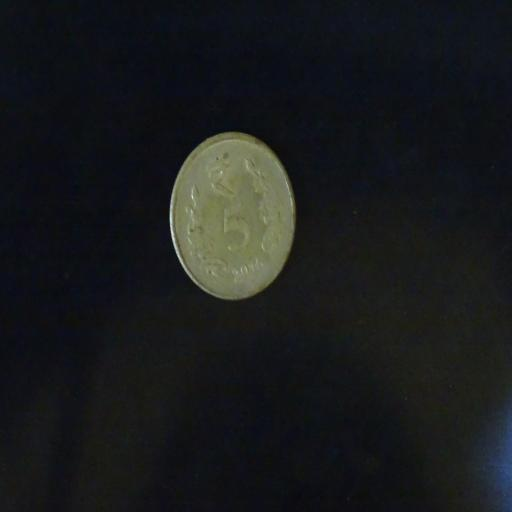rupee5: (167, 129, 299, 304)
